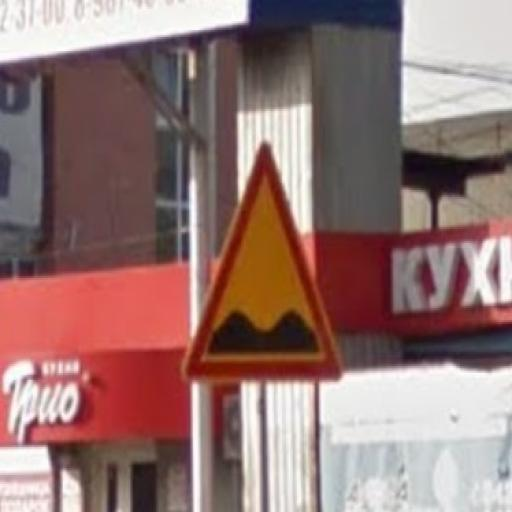traffic_sign: (182, 142, 345, 385)
